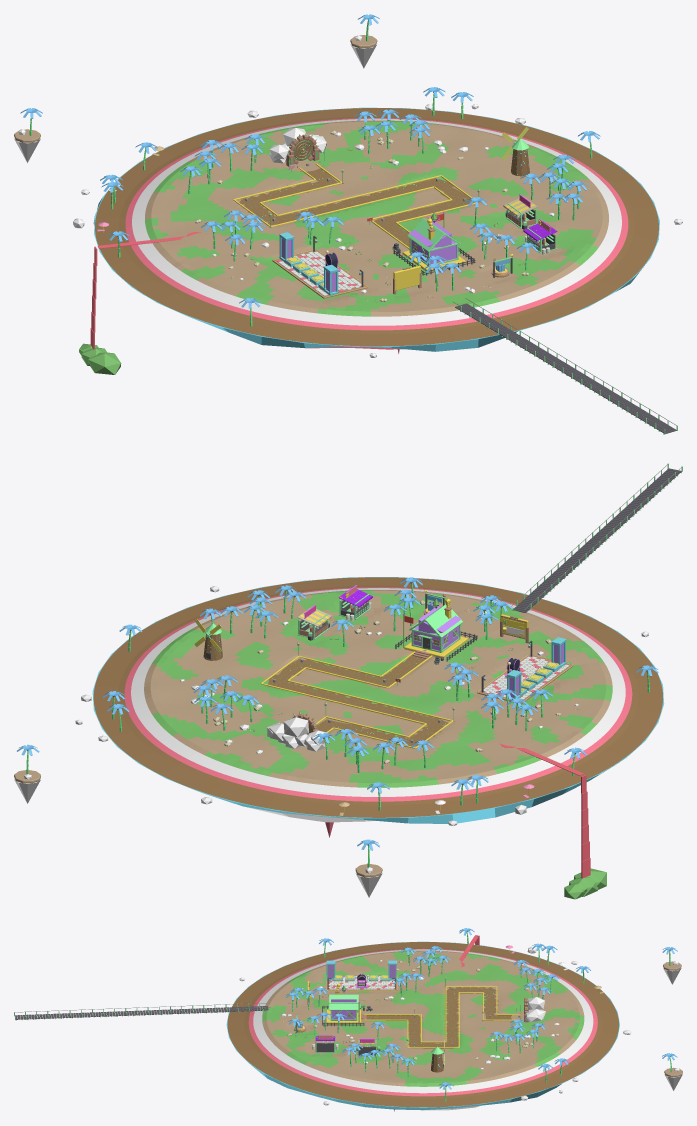
File: Isla1_Tropical.obj
The picture shows the model from 3 angles, top to bottom: view 1: azimuth 30°, elevation 25°; view 2: azimuth 150°, elevation 25°; view 3: azimuth 270°, elevation 25°; orthographic projection. The views are drawn at different scales.
Visible parts, largest first — view 1: Isla1_Tropical_Terreno, Isla1_Tropical_Base_Flotante, Isla1_Tropical_Palanca_Zona, Isla1_Tropical_Casa, Isla1_Tropical_Portal, Isla1_Tropical_Detalles_4, Isla1_Tropical_Monumento, Isla1_Tropical_Tienda_Puesto, Puente_1_6, Isla1_Tropical_Equipamientos_Puesto, Isla1_Tropical_Detalles_10, Isla1_Tropical_Detalles_11 (+1 smaller); view 2: Isla1_Tropical_Terreno, Isla1_Tropical_Base_Flotante, Isla1_Tropical_Casa, Isla1_Tropical_Palanca_Zona, Isla1_Tropical_Detalles_4, Isla1_Tropical_Portal, Isla1_Tropical_Equipamientos_Puesto, Isla1_Tropical_Tienda_Puesto, Isla1_Tropical_Detalles_10, Isla1_Tropical_Detalles_11, Isla1_Tropical_Monumento, Isla1_Tropical_Arboles_28 (+1 smaller); view 3: Isla1_Tropical_Terreno, Isla1_Tropical_Base_Flotante, Isla1_Tropical_Casa, Isla1_Tropical_Palanca_Zona, Isla1_Tropical_Portal, Puente_1_6, Isla1_Tropical_Detalles_11, Isla1_Tropical_Detalles_10, Isla1_Tropical_Equipamientos_Puesto, Isla1_Tropical_Monumento.
Part boxes in pixels (left/top/right/bottom): Isla1_Tropical_Terreno: left=95, top=108, right=658, bottom=346; Isla1_Tropical_Base_Flotante: left=93, top=107, right=659, bottom=351; Isla1_Tropical_Palanca_Zona: left=272, top=232, right=367, bottom=298; Isla1_Tropical_Casa: left=393, top=212, right=475, bottom=275; Isla1_Tropical_Portal: left=269, top=128, right=326, bottom=171; Isla1_Tropical_Detalles_4: left=79, top=236, right=184, bottom=374; Isla1_Tropical_Monumento: left=502, top=127, right=529, bottom=176; Isla1_Tropical_Tienda_Puesto: left=503, top=194, right=537, bottom=229; Puente_1_6: left=453, top=298, right=676, bottom=429; Isla1_Tropical_Equipamientos_Puesto: left=523, top=219, right=557, bottom=254; Isla1_Tropical_Detalles_10: left=350, top=14, right=379, bottom=68; Isla1_Tropical_Detalles_11: left=14, top=108, right=42, bottom=162; Isla1_Tropical_Terreno: left=93, top=577, right=662, bottom=817; Isla1_Tropical_Base_Flotante: left=92, top=577, right=664, bottom=823; Isla1_Tropical_Casa: left=395, top=598, right=477, bottom=661; Isla1_Tropical_Palanca_Zona: left=477, top=637, right=573, bottom=704; Isla1_Tropical_Detalles_4: left=516, top=748, right=606, bottom=899; Isla1_Tropical_Portal: left=267, top=711, right=327, bottom=751; Isla1_Tropical_Equipamientos_Puesto: left=338, top=585, right=372, bottom=620; Isla1_Tropical_Tienda_Puesto: left=297, top=604, right=331, bottom=640; Isla1_Tropical_Detalles_10: left=14, top=744, right=40, bottom=803; Isla1_Tropical_Detalles_11: left=355, top=839, right=382, bottom=897; Isla1_Tropical_Monumento: left=194, top=619, right=222, bottom=660; Isla1_Tropical_Arboles_28: left=200, top=681, right=258, bottom=730; Isla1_Tropical_Terreno: left=227, top=942, right=618, bottom=1107; Isla1_Tropical_Base_Flotante: left=226, top=941, right=619, bottom=1110; Isla1_Tropical_Casa: left=322, top=983, right=366, bottom=1026; Isla1_Tropical_Palanca_Zona: left=326, top=960, right=397, bottom=990; Isla1_Tropical_Portal: left=511, top=996, right=545, bottom=1022; Puente_1_6: left=15, top=1002, right=270, bottom=1016; Isla1_Tropical_Detalles_11: left=662, top=947, right=681, bottom=984; Isla1_Tropical_Detalles_10: left=662, top=1053, right=682, bottom=1090; Isla1_Tropical_Equipamientos_Puesto: left=312, top=1035, right=338, bottom=1052; Isla1_Tropical_Monumento: left=431, top=1039, right=444, bottom=1072.
Bounding box in the file's own units: 143 × 45.6 × 239.
Materials: 1 (1 with a texture image).
